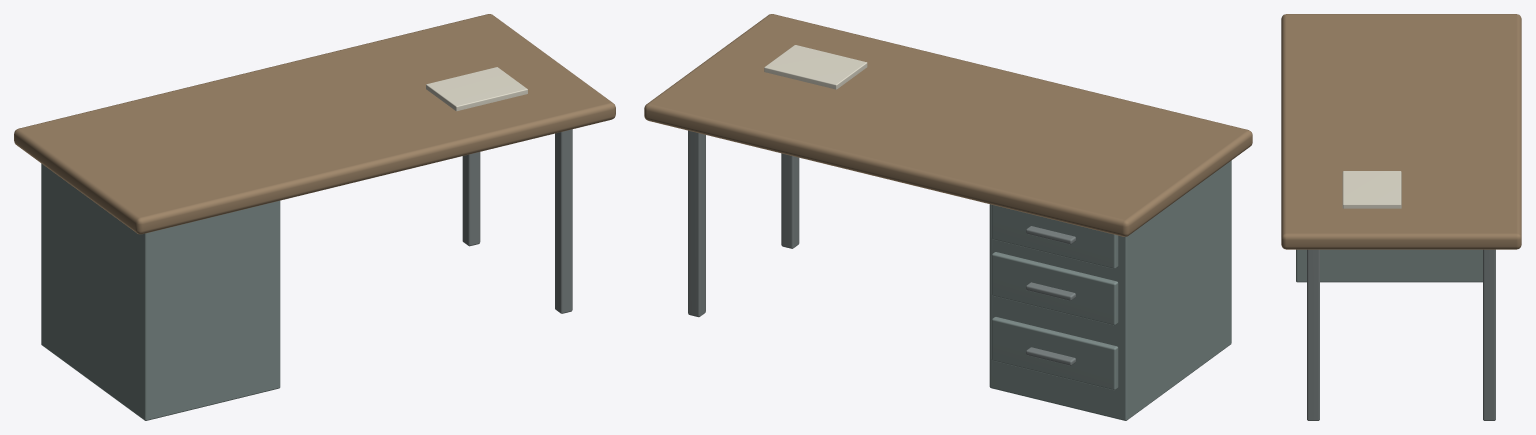
Rendered from StationOfficeDesk.fbx.
3 renders of one model, left to right at view 1: azimuth 30°, elevation 25°; view 2: azimuth 150°, elevation 25°; view 3: azimuth 270°, elevation 25°, orthographic. The views are drawn at different scales.
Parts seen in each view (by area): view 1: StationOfficeDesk_Timber, StationOfficeDesk_Paint, StationOfficeDesk_Steel, StationOfficeDesk_Paper; view 2: StationOfficeDesk_Timber, StationOfficeDesk_Paint, StationOfficeDesk_Steel, StationOfficeDesk_Paper; view 3: StationOfficeDesk_Timber, StationOfficeDesk_Paint, StationOfficeDesk_Steel, StationOfficeDesk_Paper.
Part boxes in pixels (bbox=[...]): StationOfficeDesk_Timber: bbox=[14, 14, 615, 234]; StationOfficeDesk_Paint: bbox=[41, 163, 280, 420]; StationOfficeDesk_Steel: bbox=[462, 129, 572, 313]; StationOfficeDesk_Paper: bbox=[426, 67, 527, 111]; StationOfficeDesk_Timber: bbox=[644, 14, 1252, 236]; StationOfficeDesk_Paint: bbox=[989, 160, 1231, 420]; StationOfficeDesk_Steel: bbox=[688, 130, 1075, 365]; StationOfficeDesk_Paper: bbox=[764, 45, 867, 89]; StationOfficeDesk_Timber: bbox=[1281, 14, 1521, 249]; StationOfficeDesk_Paint: bbox=[1296, 249, 1482, 282]; StationOfficeDesk_Steel: bbox=[1307, 249, 1495, 420]; StationOfficeDesk_Paper: bbox=[1342, 171, 1401, 208].
Size of the model in its own units: 180 by 77.2 by 82.
